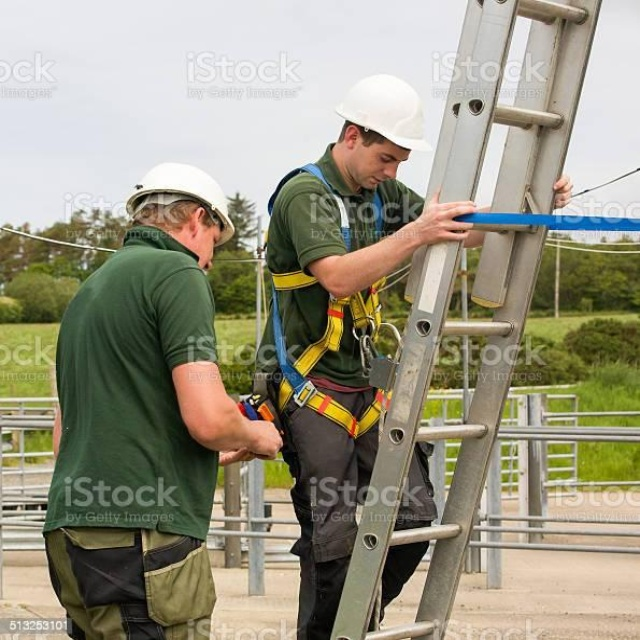Arnes_seguridad: (252, 159, 410, 442)
